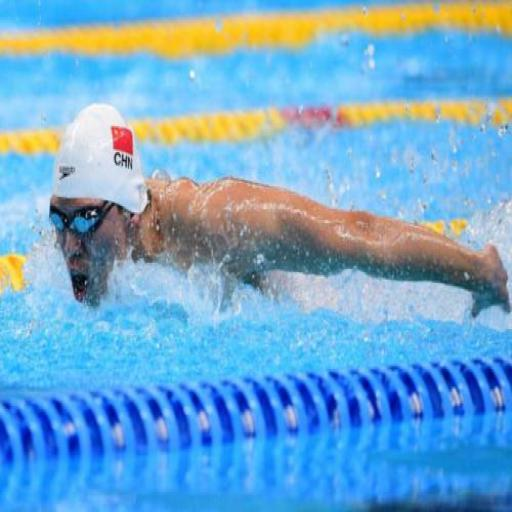swimming: (44, 100, 511, 323)
